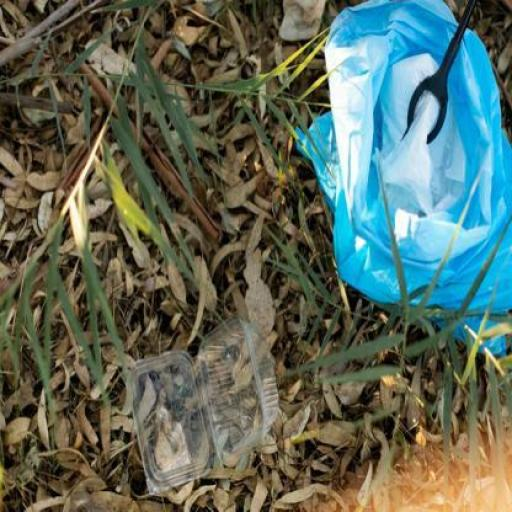plastic bag: (298, 0, 511, 388)
